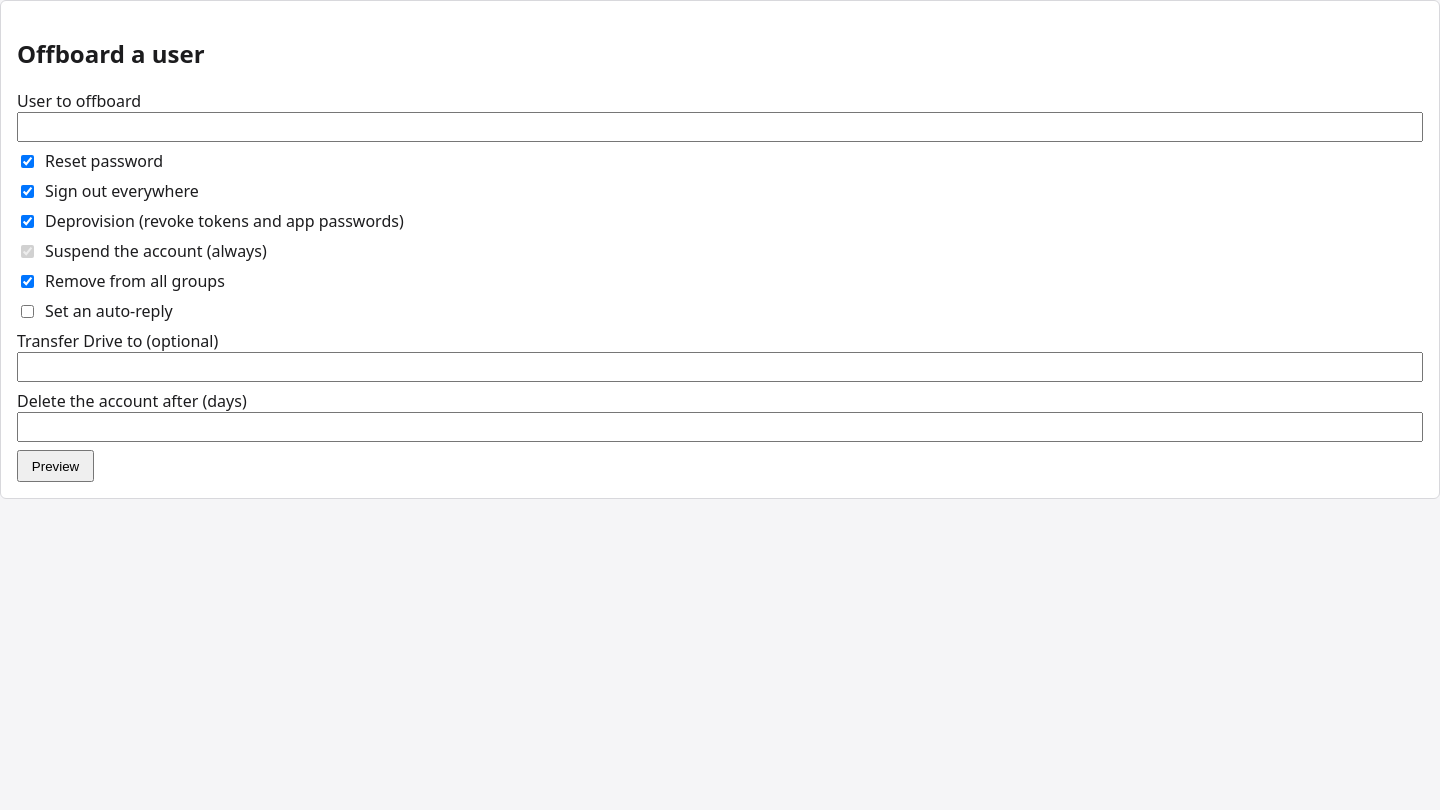
Test case: submit calls preview and shows the steps
The image size is (1440, 810).
Type "a@b.com" into the field labelled "User to offboard".
click(720, 127); type("a@b.com")  # box [17,112,1423,142]
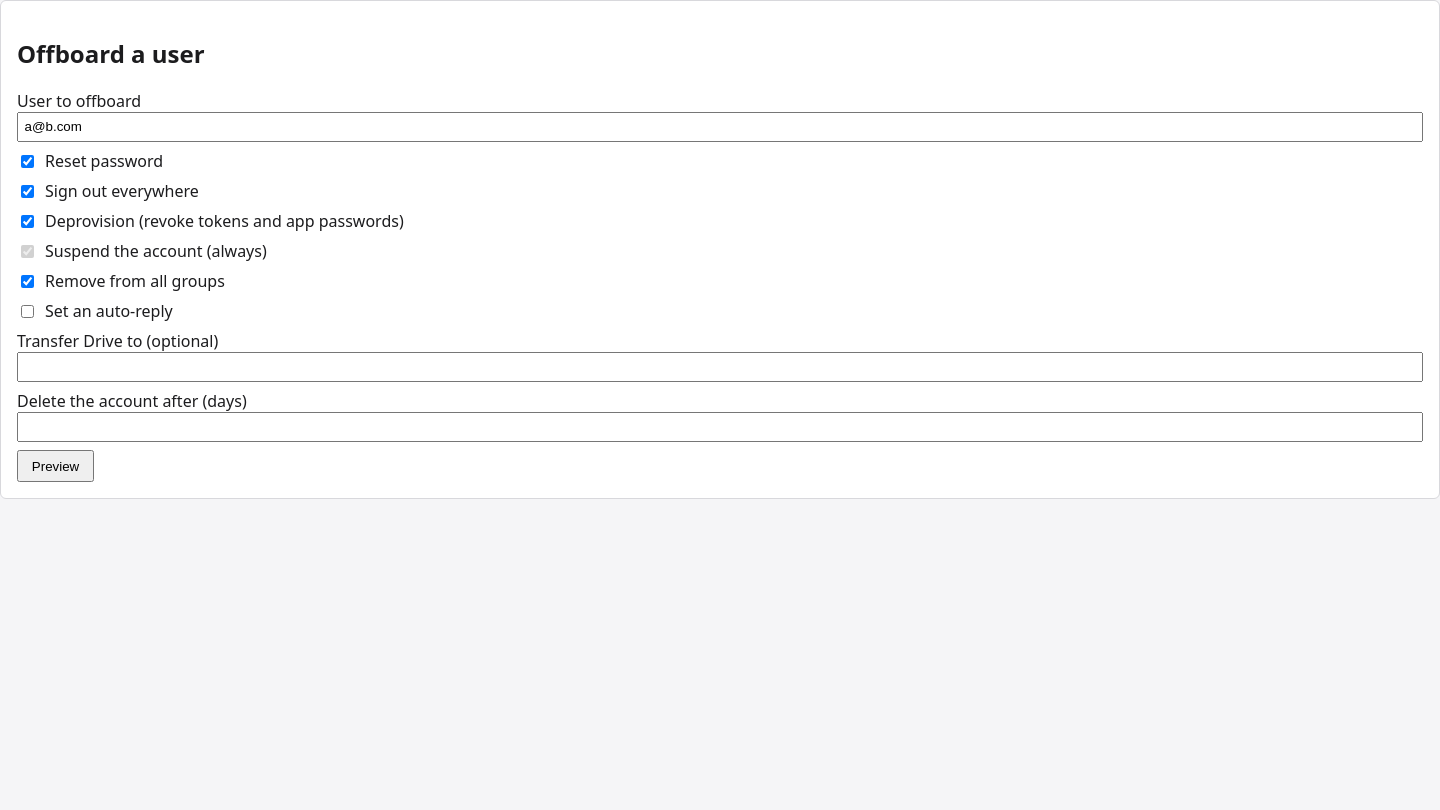
Click the button "Preview".
click(56, 466)  # box [17,450,94,482]
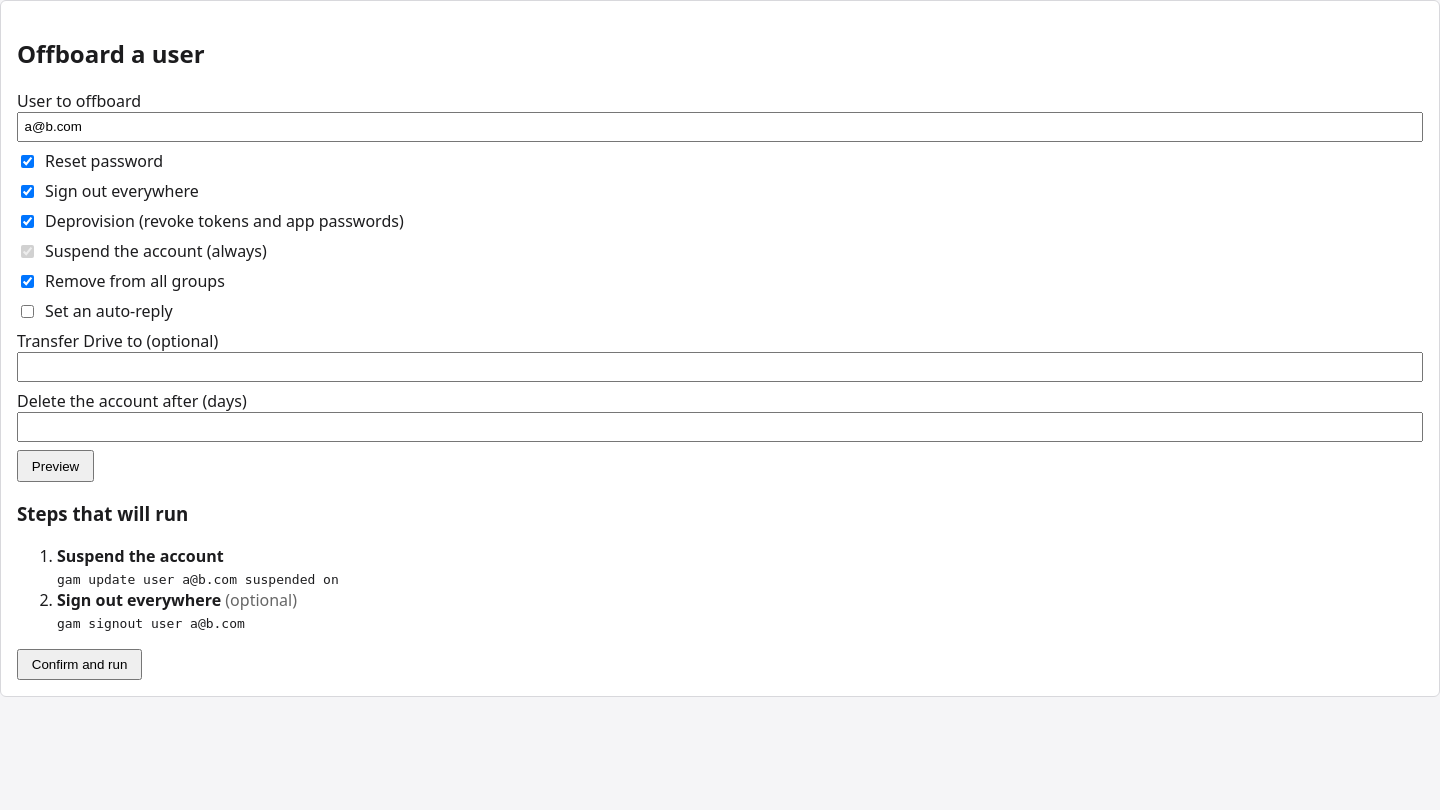
Check: the text "Suspend the account" is shown, box [57,545,224,567]
Check: the text "gam update user a@b.com suspended on" is shown, box [57,572,339,587]
